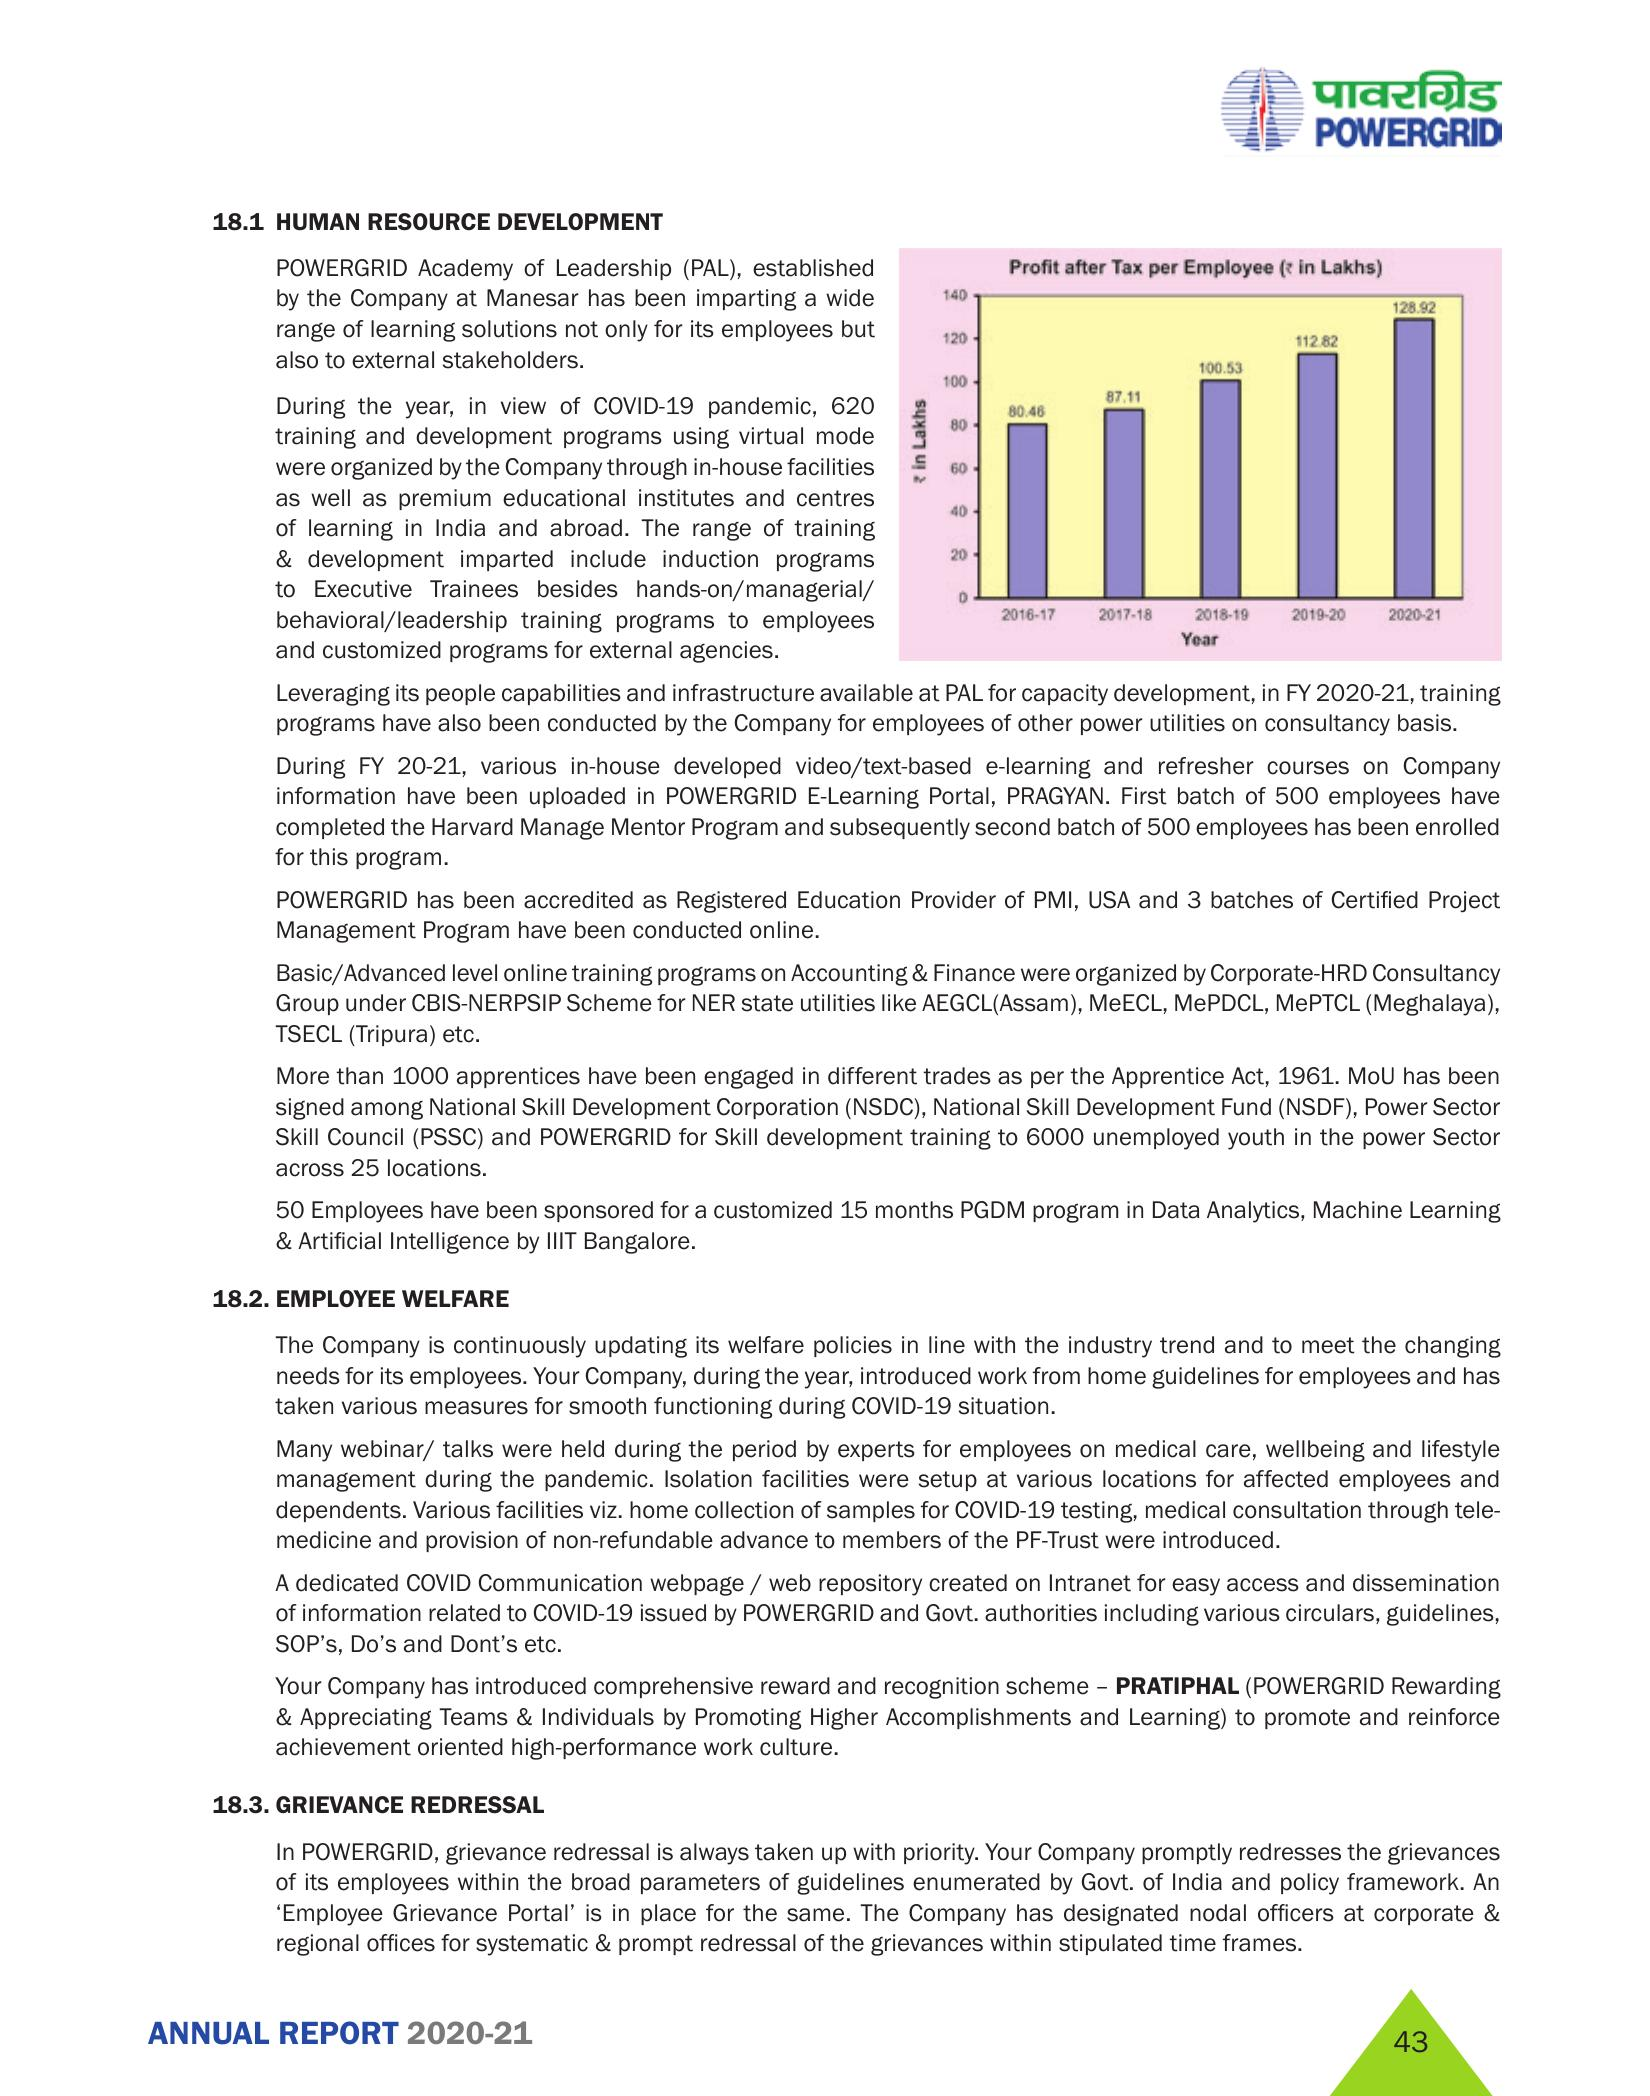Footer: (0, 1974, 1650, 2096)
Header: (0, 0, 1650, 175)
Image: (890, 221, 1511, 662)
